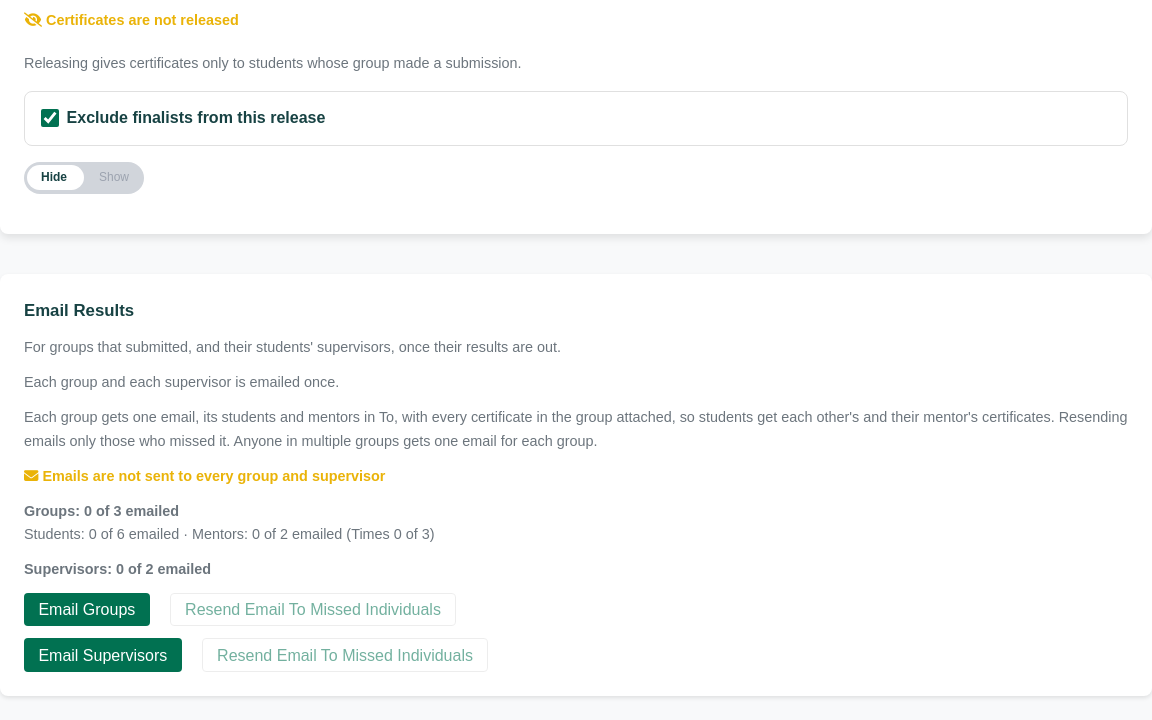
Test: sending › a send pressed while another is going says it is queued
The image size is (1152, 720).
(page scrolled)
// Nothing ahead: it waits only the few seconds after the last send.
Step 1. Click the button "Email Groups" → (87, 610), box [24,593,150,626]
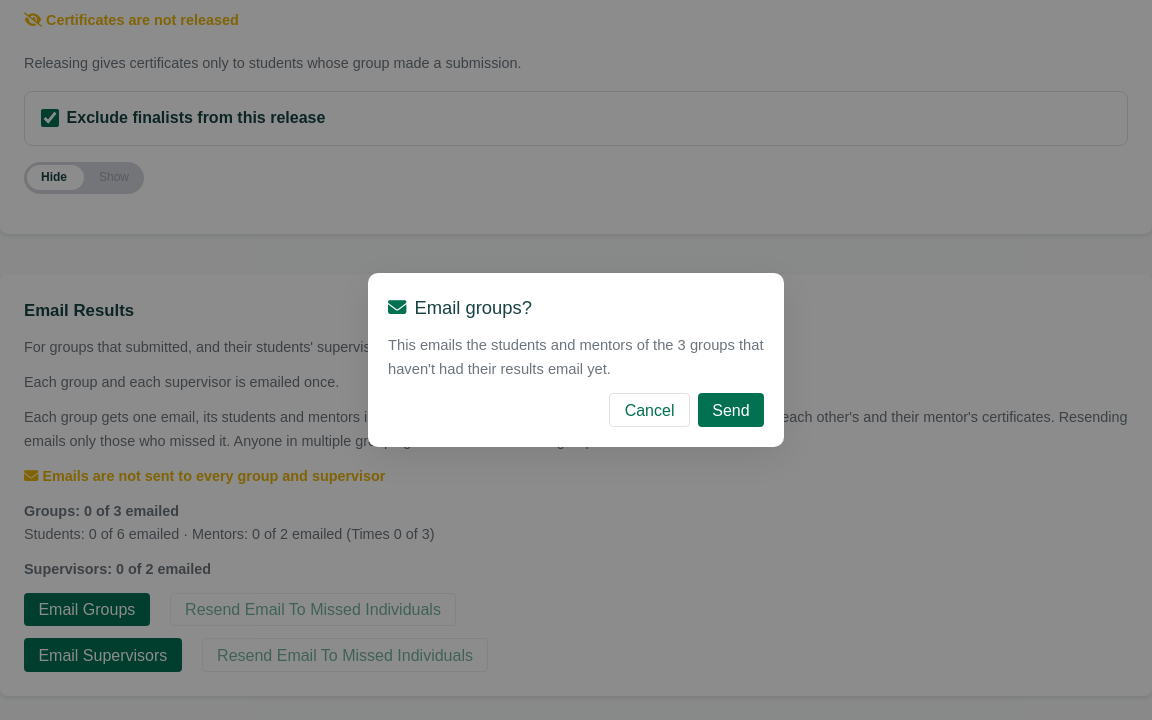
Step 2. Click the button "Send" → (731, 410), box [698,394,764,427]
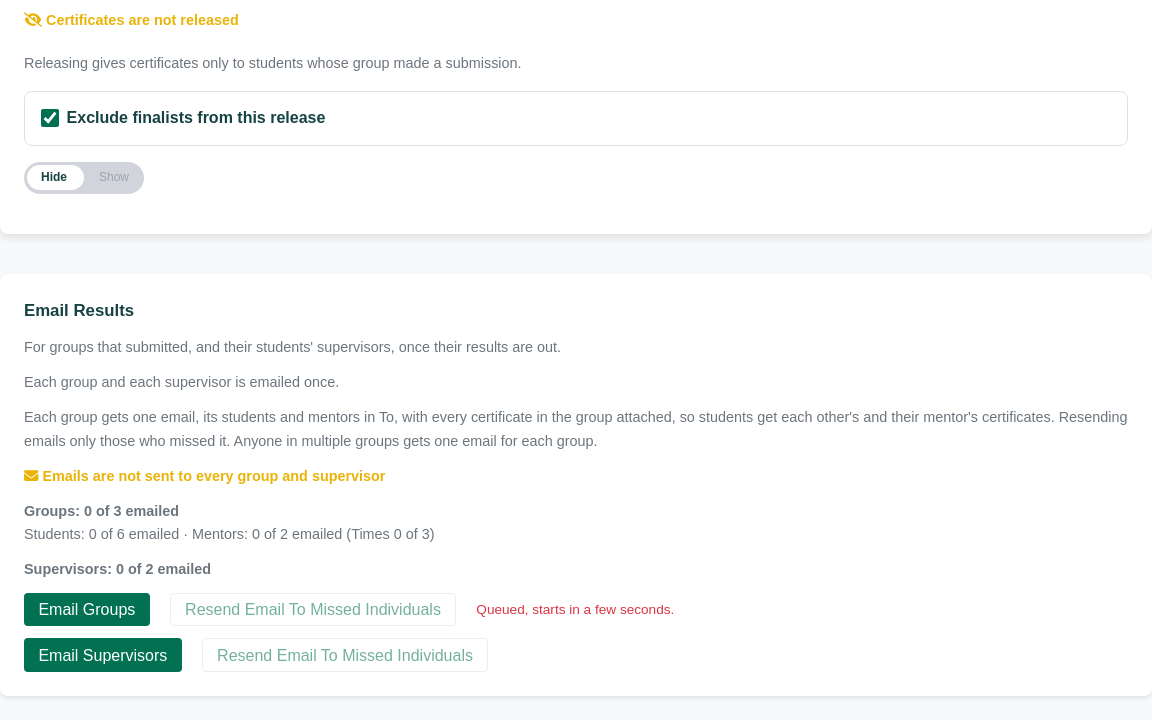
Now the message with class "release-results__queued" reads "Queued, starts in a few seconds.", box [476,602,674,617]
